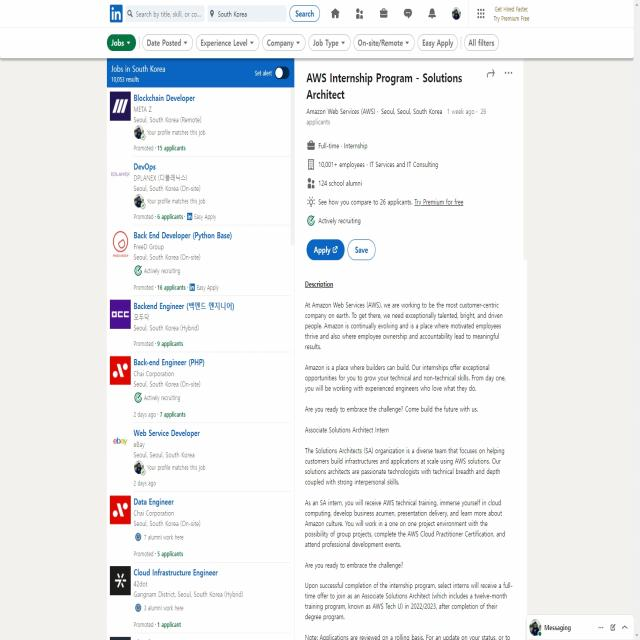menu-bar: (324, 1, 488, 28)
menu-panel: (105, 26, 504, 58)
search: (106, 2, 321, 26)
